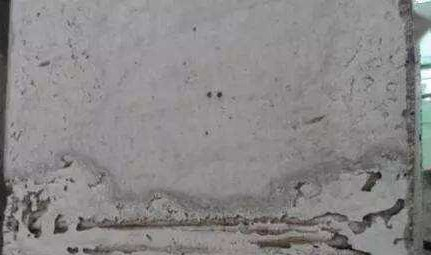Exposed reinforcement: (28, 214, 321, 231), (247, 235, 333, 250), (218, 227, 319, 238)
Spalling: (1, 150, 416, 255)
